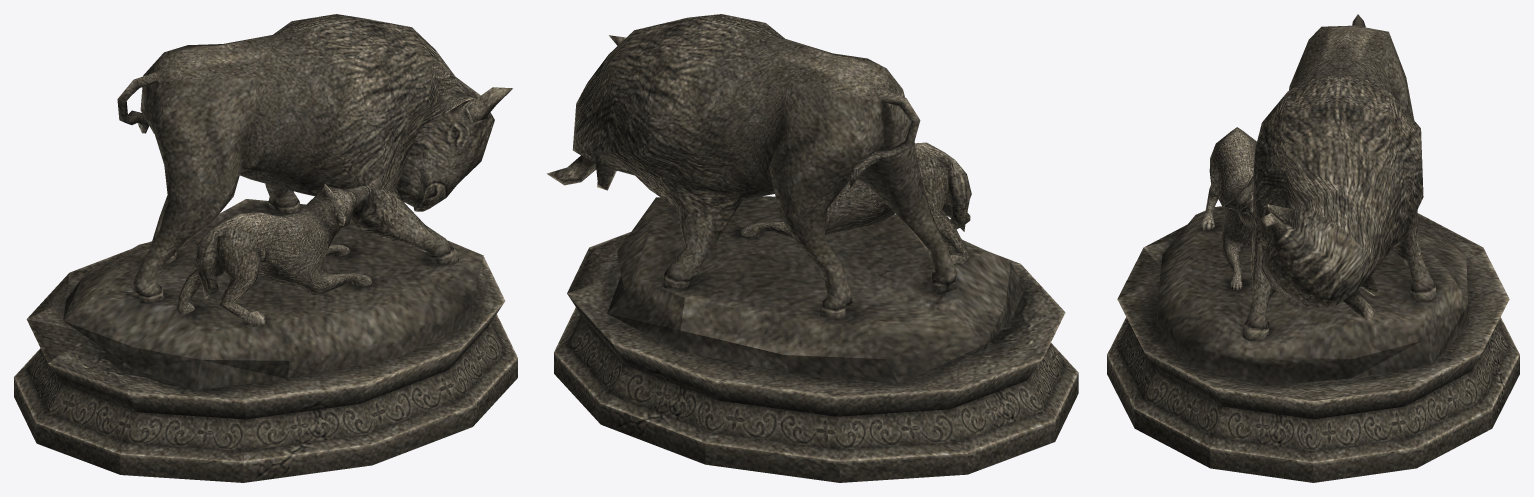
Rendered from wolfBisonStatue.dae.
3 renders of one model, left to right at view 1: azimuth 30°, elevation 25°; view 2: azimuth 150°, elevation 25°; view 3: azimuth 270°, elevation 25°, orthographic. The views are drawn at different scales.
Parts seen in each view (by area): view 1: Wolf_fighting_bison_statue; view 2: Wolf_fighting_bison_statue; view 3: Wolf_fighting_bison_statue.
Boxes of the visible parts, x1,y1,x2,y2 form: Wolf_fighting_bison_statue: [14, 14, 517, 482]; Wolf_fighting_bison_statue: [547, 14, 1078, 482]; Wolf_fighting_bison_statue: [1107, 14, 1519, 482].
Bounding box in the file's own units: 3.78 × 2.64 × 3.03.
1 material, 1 textured.
